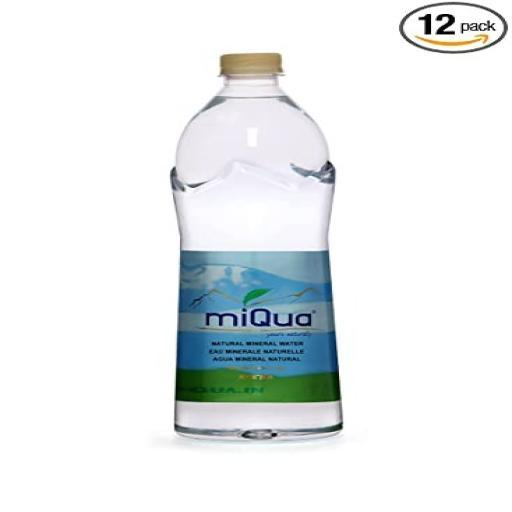bottle: (158, 50, 358, 453)
